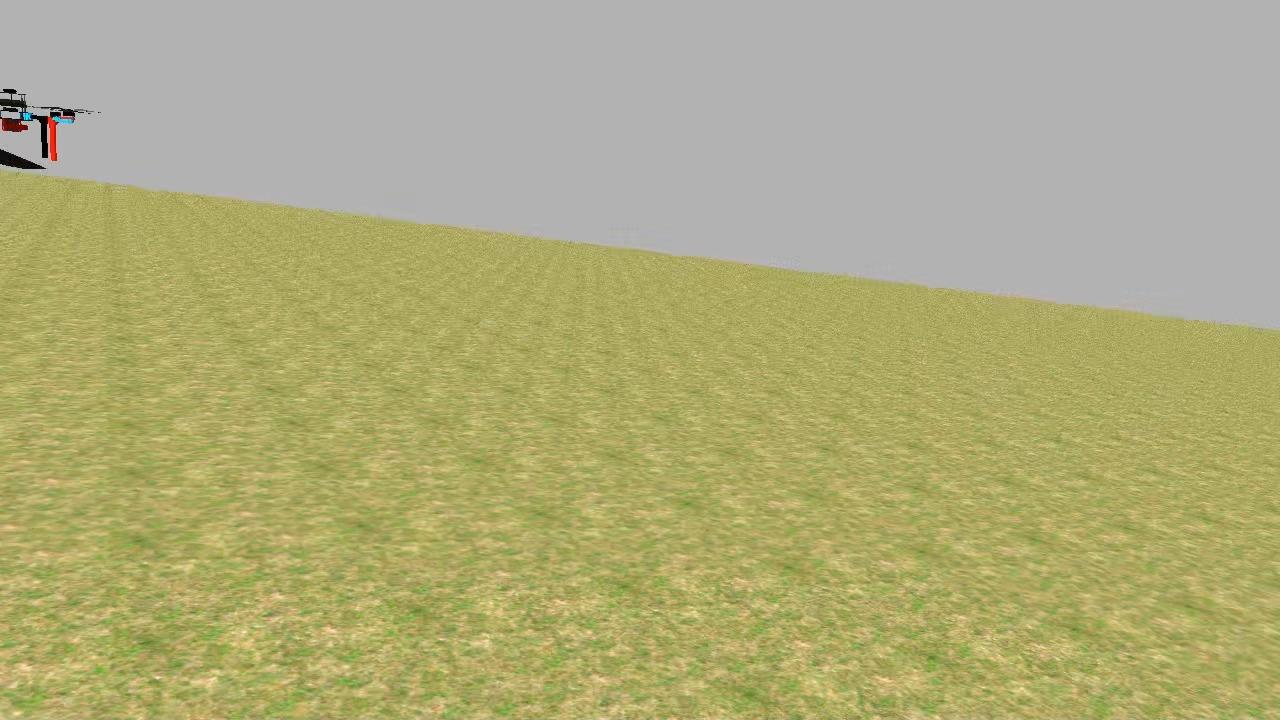UAV: (1, 80, 84, 169)
